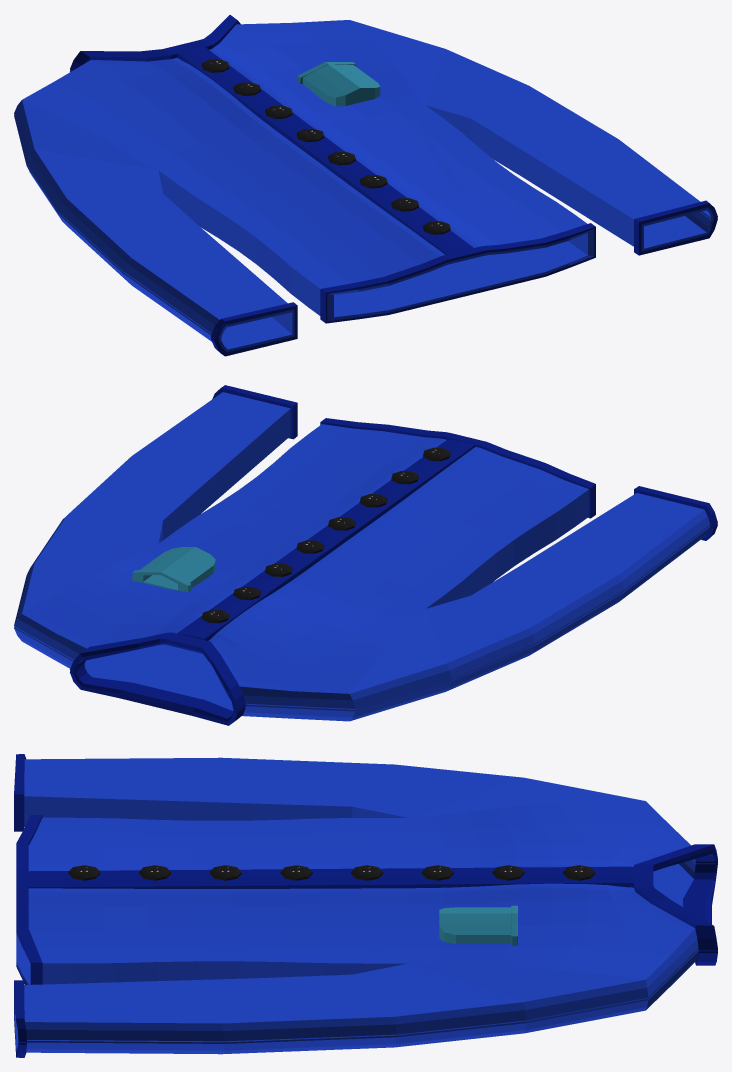
Rendered from Jacket 1.fbx.
3 renders of one model, top to bottom at view 1: azimuth 30°, elevation 25°; view 2: azimuth 150°, elevation 25°; view 3: azimuth 270°, elevation 25°, orthographic. The views are drawn at different scales.
Visible parts, largest first — view 1: Node 0; view 2: Node 0; view 3: Node 0.
Boxes of the visible parts, <box> form: Node 0: <box>14,15,717,356</box>; Node 0: <box>14,385,717,725</box>; Node 0: <box>14,754,717,1057</box>.
Bounding box in the file's own units: 1.11 × 0.1002 × 1.03.
